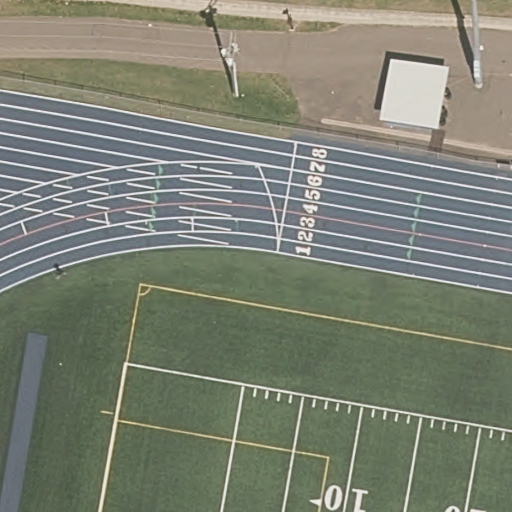DT: (220, 30, 237, 68)
